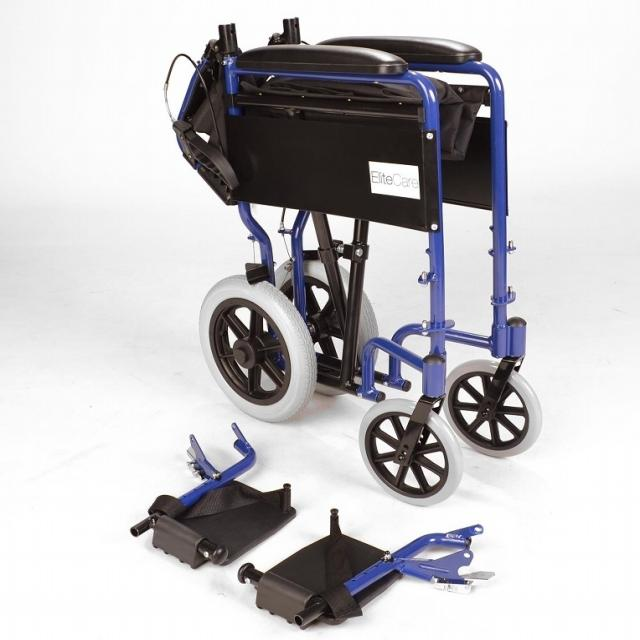wheelchair: (124, 12, 569, 640)
